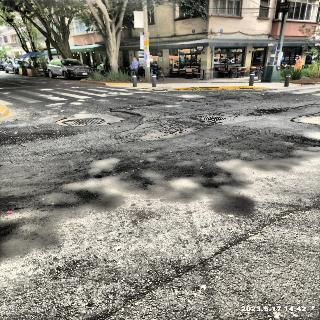alligator-crack: (113, 117, 189, 142), (254, 106, 296, 116), (190, 122, 218, 132)
crack: (89, 209, 310, 318), (43, 144, 110, 160), (109, 108, 145, 116), (177, 99, 225, 103), (113, 104, 160, 108), (290, 120, 317, 125), (298, 112, 320, 118), (16, 142, 29, 152), (54, 117, 66, 126), (296, 104, 320, 108), (291, 116, 296, 120), (253, 91, 262, 92)
pothole: (262, 89, 278, 91), (278, 92, 285, 94)
